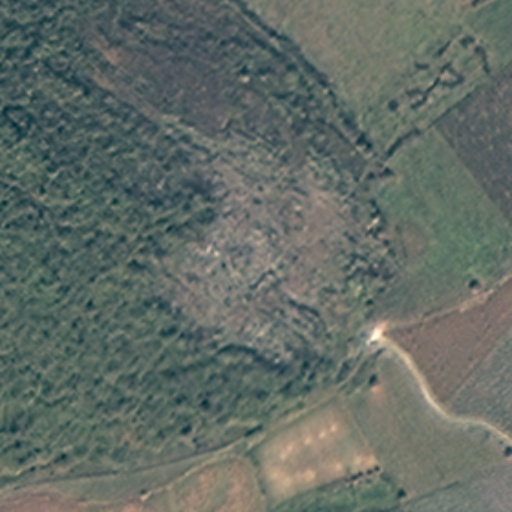landslide: (147, 147, 373, 338)
